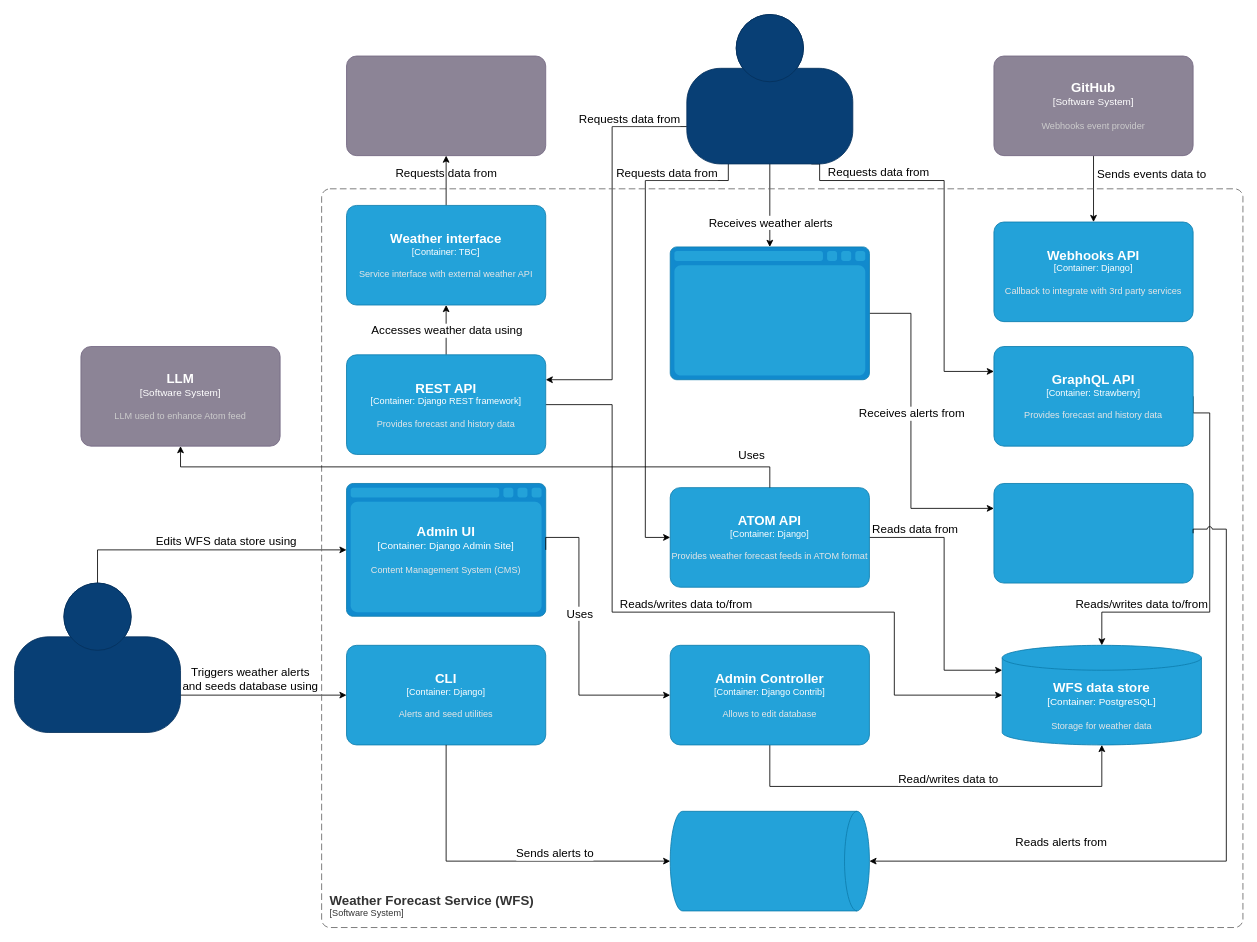
This 1257x942 diagram has some shape labels left out. Each missing label, with the centre of its shape:
"Admin [Person] WFS's administrator" goes at point (97, 657).
"Alerts UI [Container: JavaScript] User's alerts UI (requires city's uuid)" goes at point (769, 313).
"City Alert Channel [Container: Redis Pub/Sub] City's alert channel" goes at point (769, 860).
"open-meteo.com [Software System] API used as a source of weather forecast data" goes at point (446, 105).
"User [Person] WFS's user" goes at point (769, 89).
"Websocket API [Container: Starlette] Provides real-time alerts" goes at point (1093, 533).
